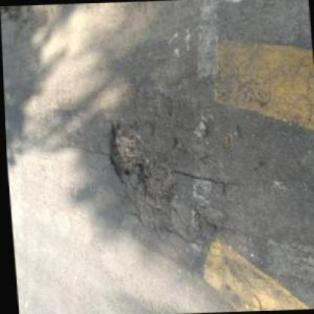Hueco: (103, 115, 149, 182), (135, 156, 174, 200), (192, 200, 230, 230)
